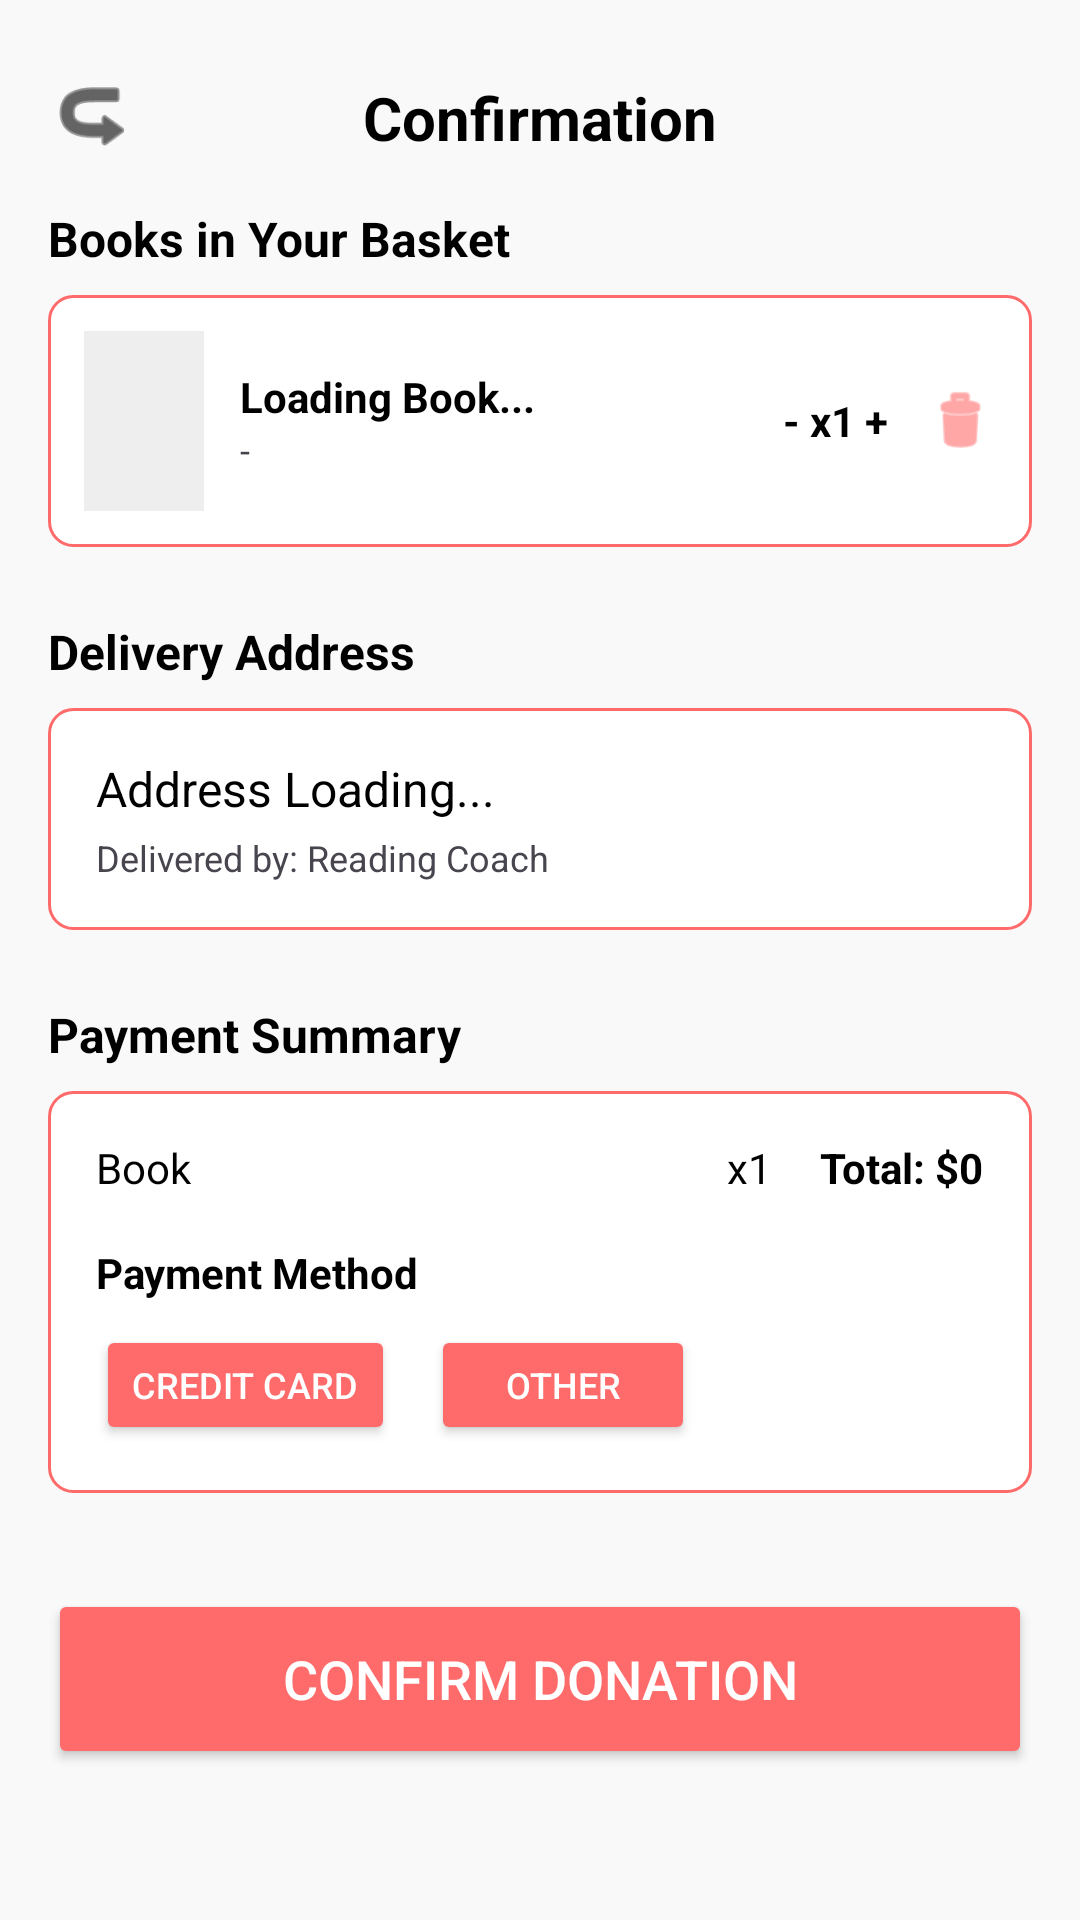

Icon bounding boxes for this 1080 × 1920 phone screenshot, format BBox(x1, y1, x2, y2):
delete: BBox(940, 392, 981, 448)
